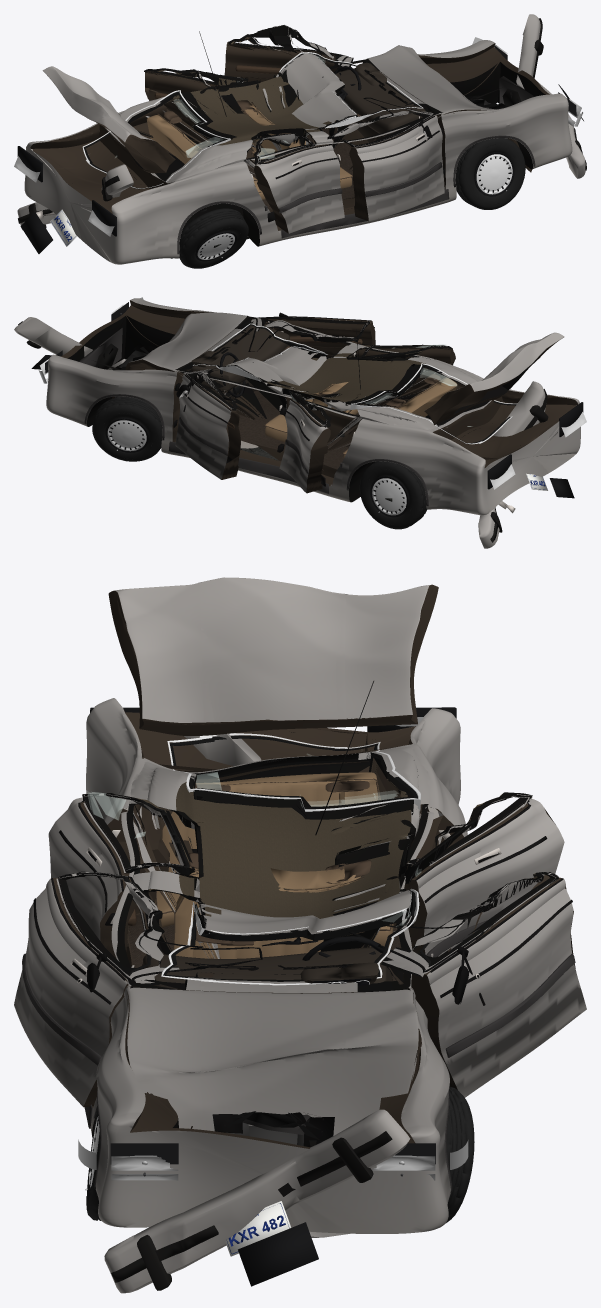
File: sedan87_roll_d2_lod1.glb
3 views of the same model, one above another, from view 1: azimuth 30°, elevation 25°; view 2: azimuth 150°, elevation 25°; view 3: azimuth 270°, elevation 25° (orthographic). The views are drawn at different scales.
Visible parts, largest first — view 1: Body, Door_FR, Interior, Door_RR, Wheel_FR_mesh, Trunk, Hood, Door_FL, Wheel_RR_mesh, Ends, Glass, Door_RL (+7 smaller); view 2: Body, Door_FL, Interior, Wheel_FL_mesh, Wheel_RL_mesh, Trunk, Door_RL, Hood, Door_FR, Ends, Bumper_R, Glass (+9 smaller); view 3: Body, Trunk, Hood, Door_FL, Interior, Door_FR, Bumper_F, Door_RL, Ends, Door_RR, Glass, Trim_FL (+8 smaller).
Boxes of the visible parts, x1,y1,x2,y2 form: Body: (24,40,572,264); Door_FR: (327,109,444,221); Interior: (146,62,425,199); Door_RR: (254,133,344,233); Wheel_FR_mesh: (455,138,525,209); Trunk: (42,66,175,173); Hood: (366,45,532,172); Door_FL: (224,25,353,81); Wheel_RR_mesh: (179,208,248,268); Ends: (14,37,583,253); Glass: (82,52,423,189); Door_RL: (144,68,248,144); Body: (46,298,580,515); Door_FL: (175,369,240,479); Interior: (191,325,457,458); Wheel_FL_mesh: (92,396,162,461); Wheel_RL_mesh: (359,461,426,529); Trunk: (424,332,564,424); Door_RL: (279,390,331,493); Hood: (112,312,249,398); Door_FR: (249,317,375,357); Ends: (31,297,586,498); Bumper_R: (478,381,548,548); Glass: (193,323,517,444); Body: (86,698,467,1233); Trunk: (108,577,438,735); Hood: (126,986,421,1237); Door_FL: (381,872,586,1097); Interior: (142,772,393,993); Door_FR: (14,872,179,1107); Bumper_F: (104,1109,410,1293); Door_RL: (404,792,564,956); Ends: (78,707,468,1286); Door_RR: (48,793,194,958); Glass: (161,733,420,985); Trim_FL: (343,872,575,1057).
Bounding box in the file's own units: 5.27 × 1.67 × 2.56.
29 materials, 5 textured.
